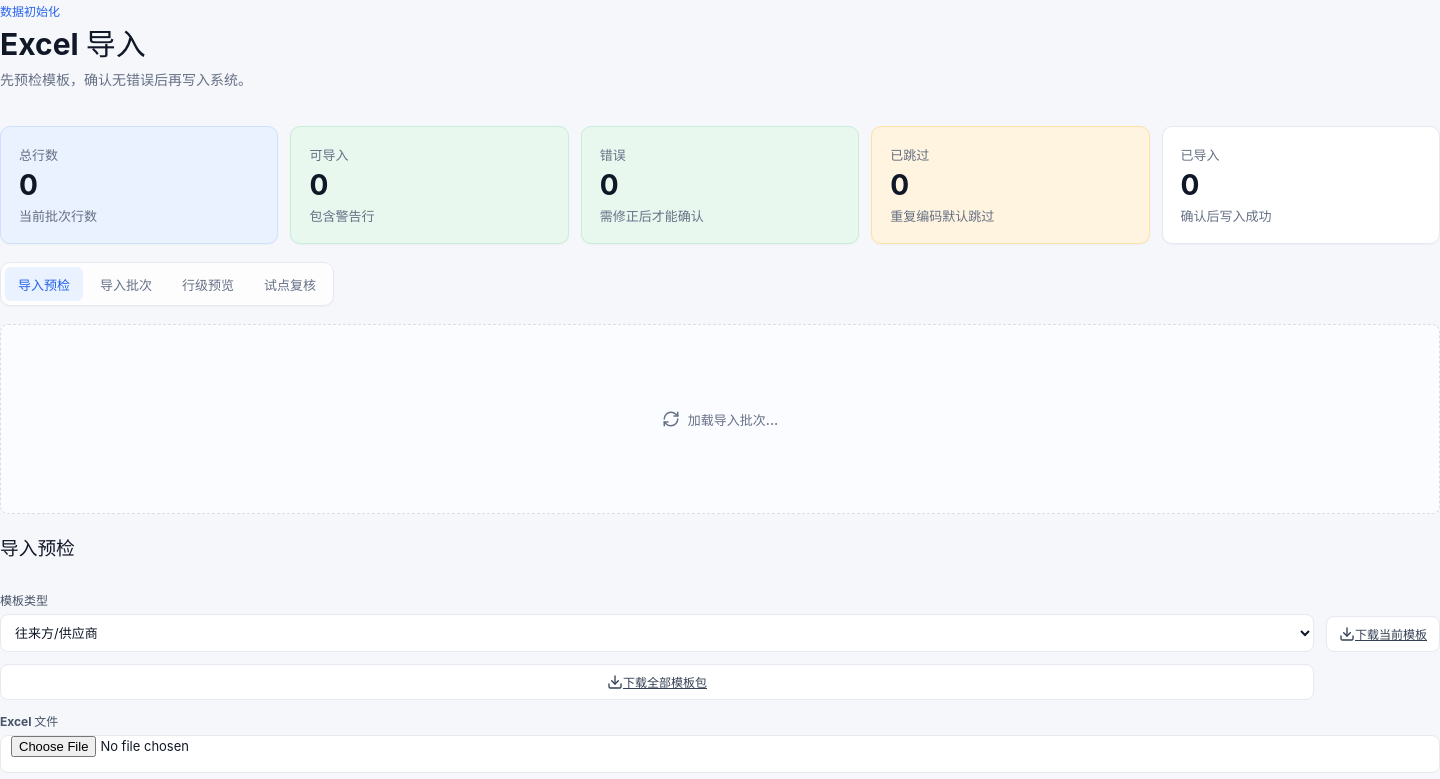
Test case: P0-5: ImportJobDetailDrawer › batch list shows 详情 button and opens drawer with batch info
Click the tab "导入批次". click: (126, 284)
box: [87,268,165,302]
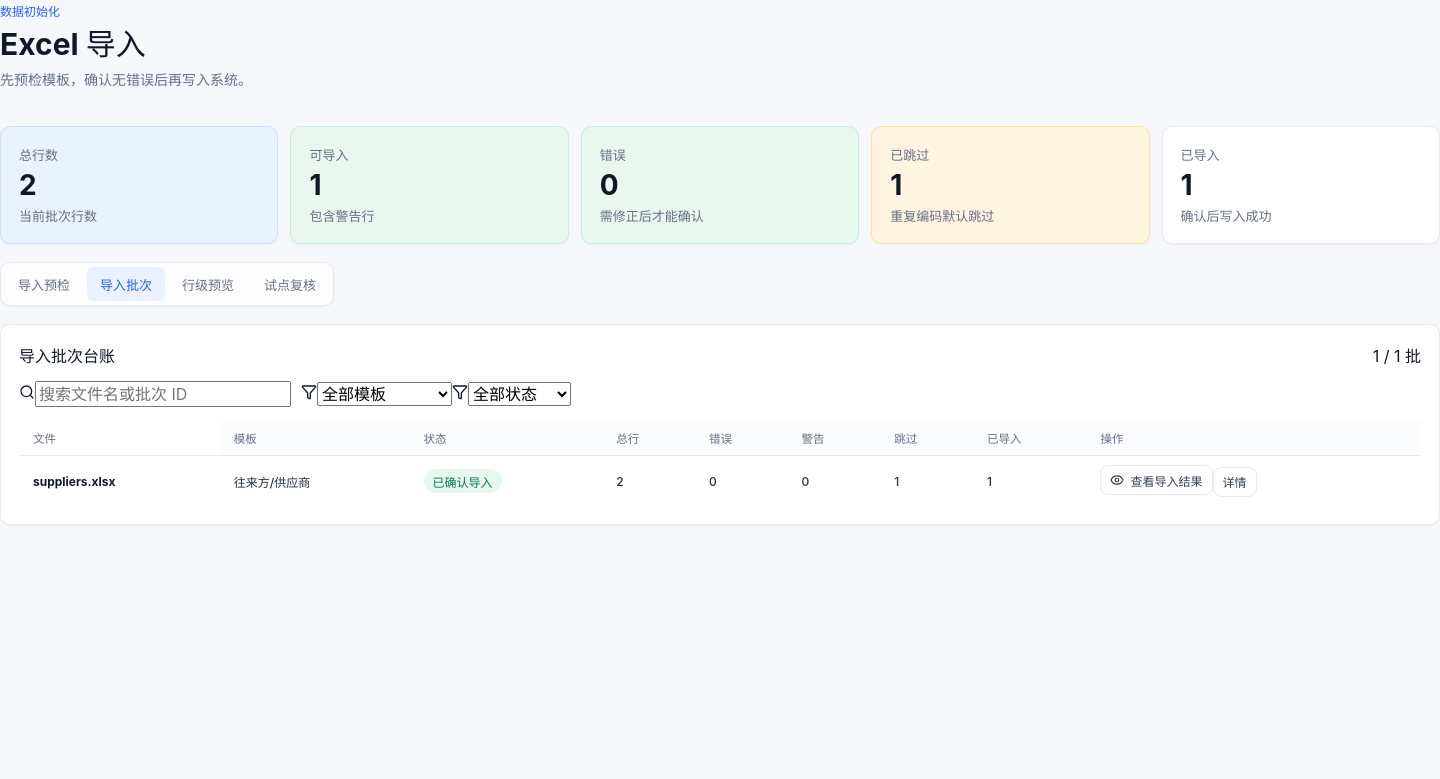
Now the text "suppliers.xlsx" is shown, box [19,456,220,506]
Click the button with aria-label "查看批次详情". click: (1234, 482)
box: [1212,467,1256,497]
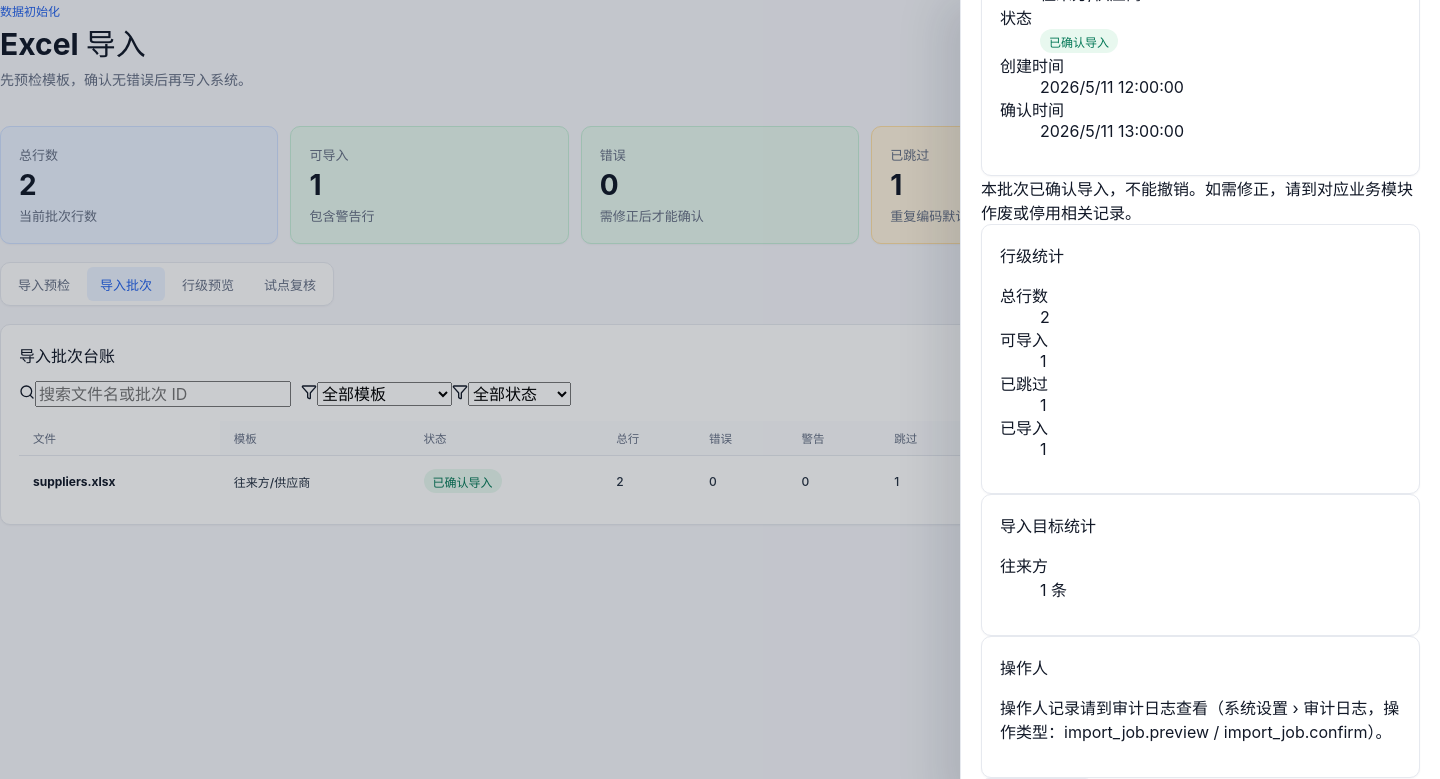
Now the text "suppliers.xlsx" is shown, box [19,456,220,506]
Now the text "操作人记录请到审计日志查看" is shown, box [1000,698,1399,742]
